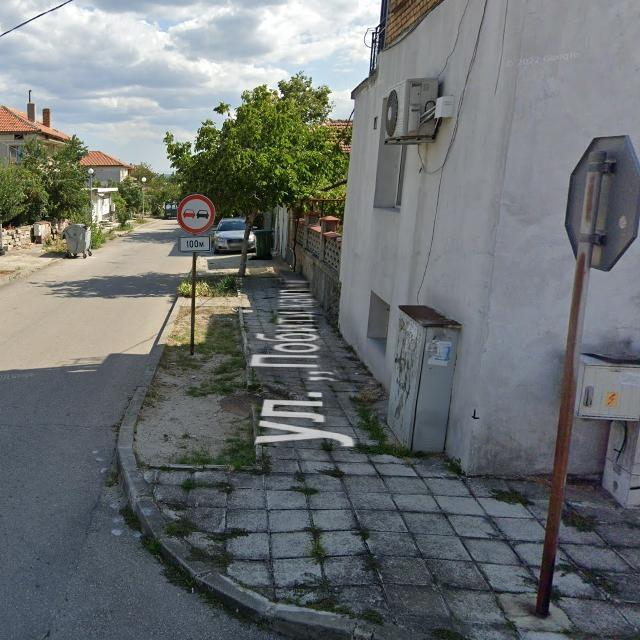forb_overtake: (176, 192, 215, 236)
